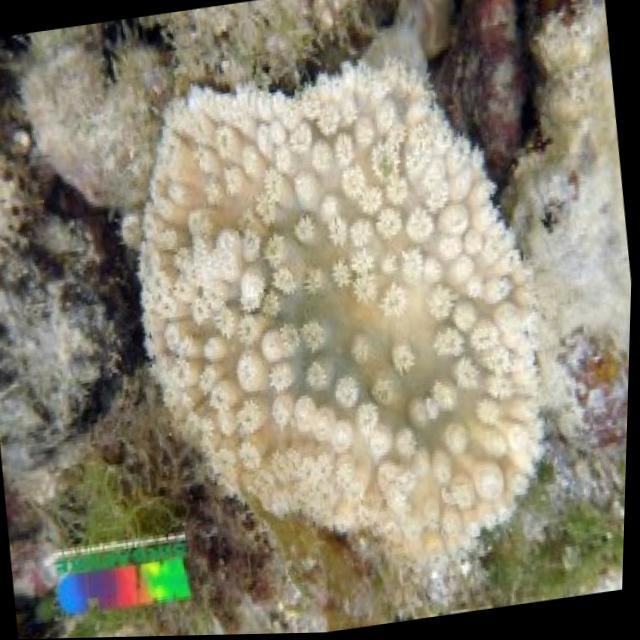Bleached Coral: (119, 29, 573, 616)
